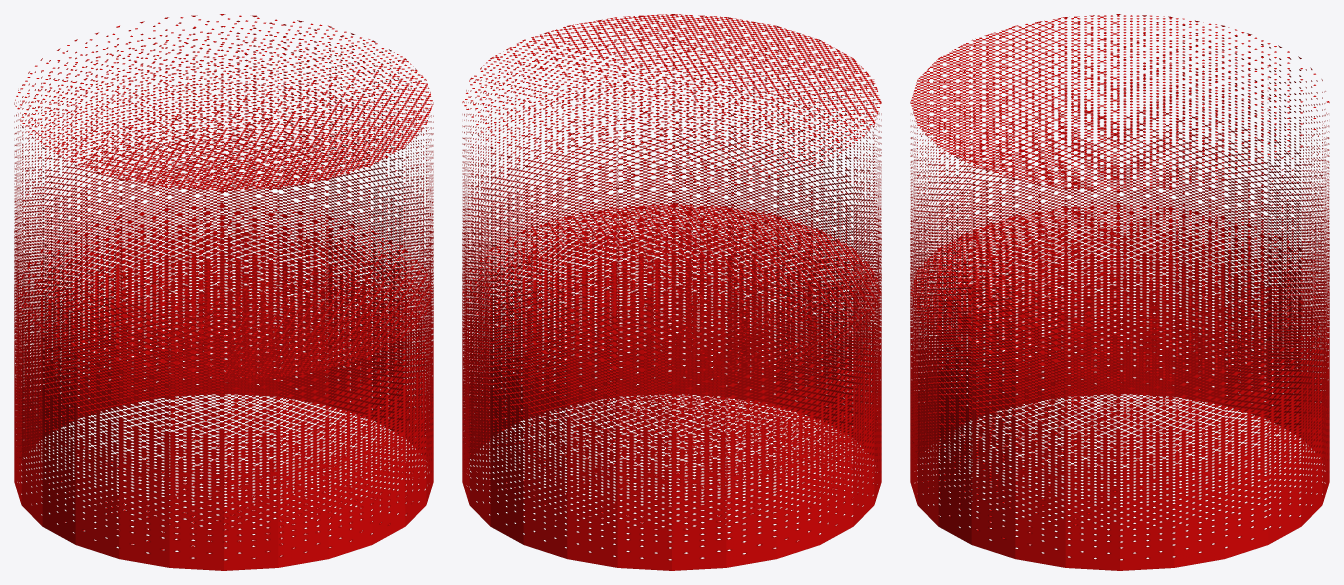
File: switch2.obj
3 renders of one model, left to right at view 1: azimuth 30°, elevation 25°; view 2: azimuth 150°, elevation 25°; view 3: azimuth 270°, elevation 25°, orthographic.
Parts seen in each view (by area): view 1: entity0_brush1, entity0_brush0; view 2: entity0_brush1, entity0_brush0; view 3: entity0_brush1, entity0_brush0.
Part boxes in pixels (left/top/right/bottom): entity0_brush1: left=14, top=204, right=433, bottom=570; entity0_brush0: left=14, top=14, right=433, bottom=380; entity0_brush1: left=462, top=204, right=881, bottom=570; entity0_brush0: left=462, top=14, right=881, bottom=380; entity0_brush1: left=910, top=204, right=1329, bottom=570; entity0_brush0: left=910, top=14, right=1329, bottom=380.
Bounding box in the file's own units: 128 × 128 × 128.
Materials: 1 (1 with a texture image).
